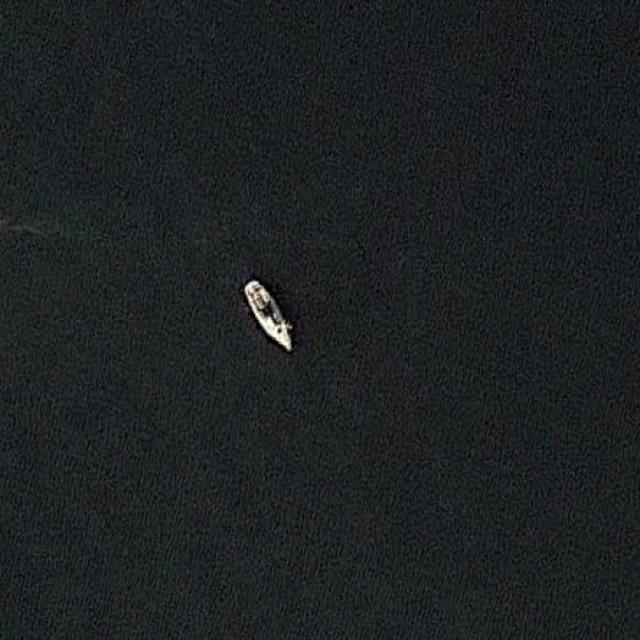ship: (238, 276, 296, 354)
